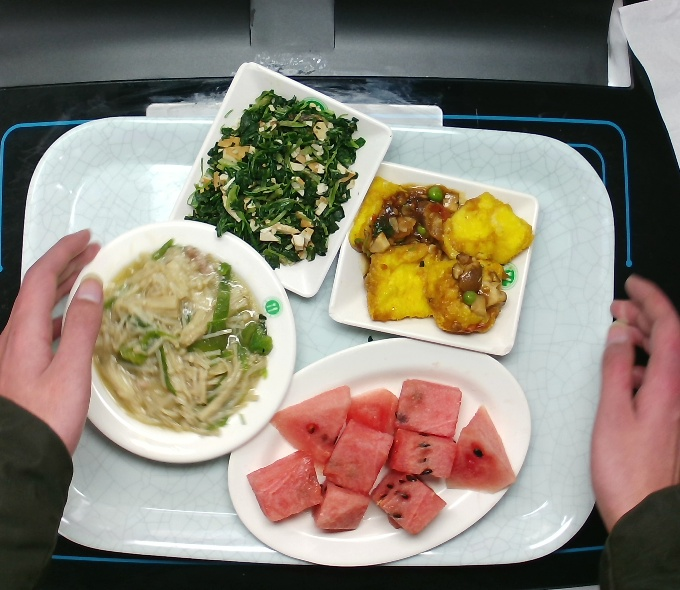wcq-CuiPiDouFu: (345, 171, 538, 341)
wcq-JinZhenGu: (81, 235, 283, 442)
wcq-MaLanTouChaoDouGan: (179, 86, 371, 274)
wcq-XiGua: (242, 376, 529, 540)
